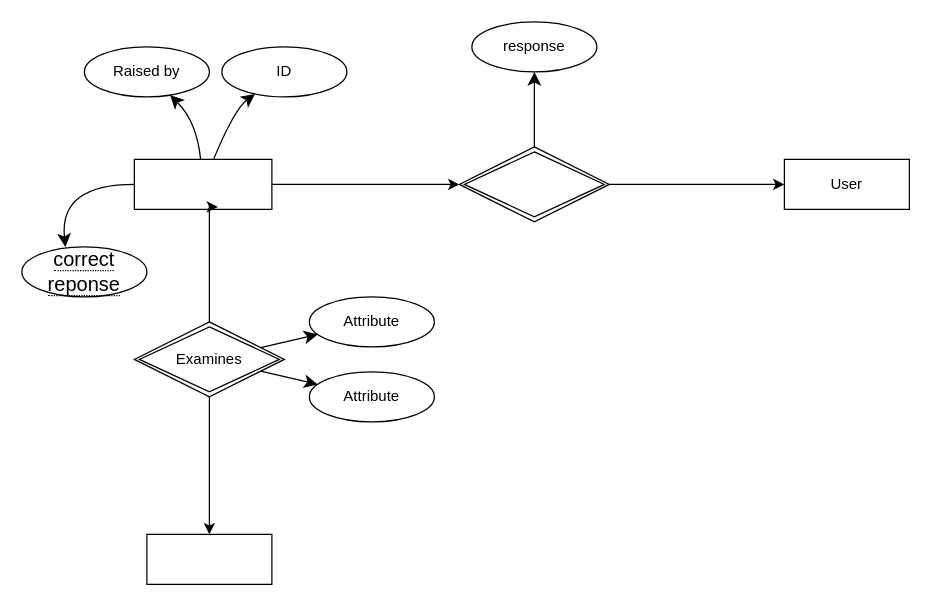
This 931x606 diagram has some shape labels left out. Each missing label, with the centre of its shape:
"Expert" belongs at (x=209, y=558).
"Questions" belongs at (x=202, y=183).
"Responded by" belongs at (x=533, y=184).
